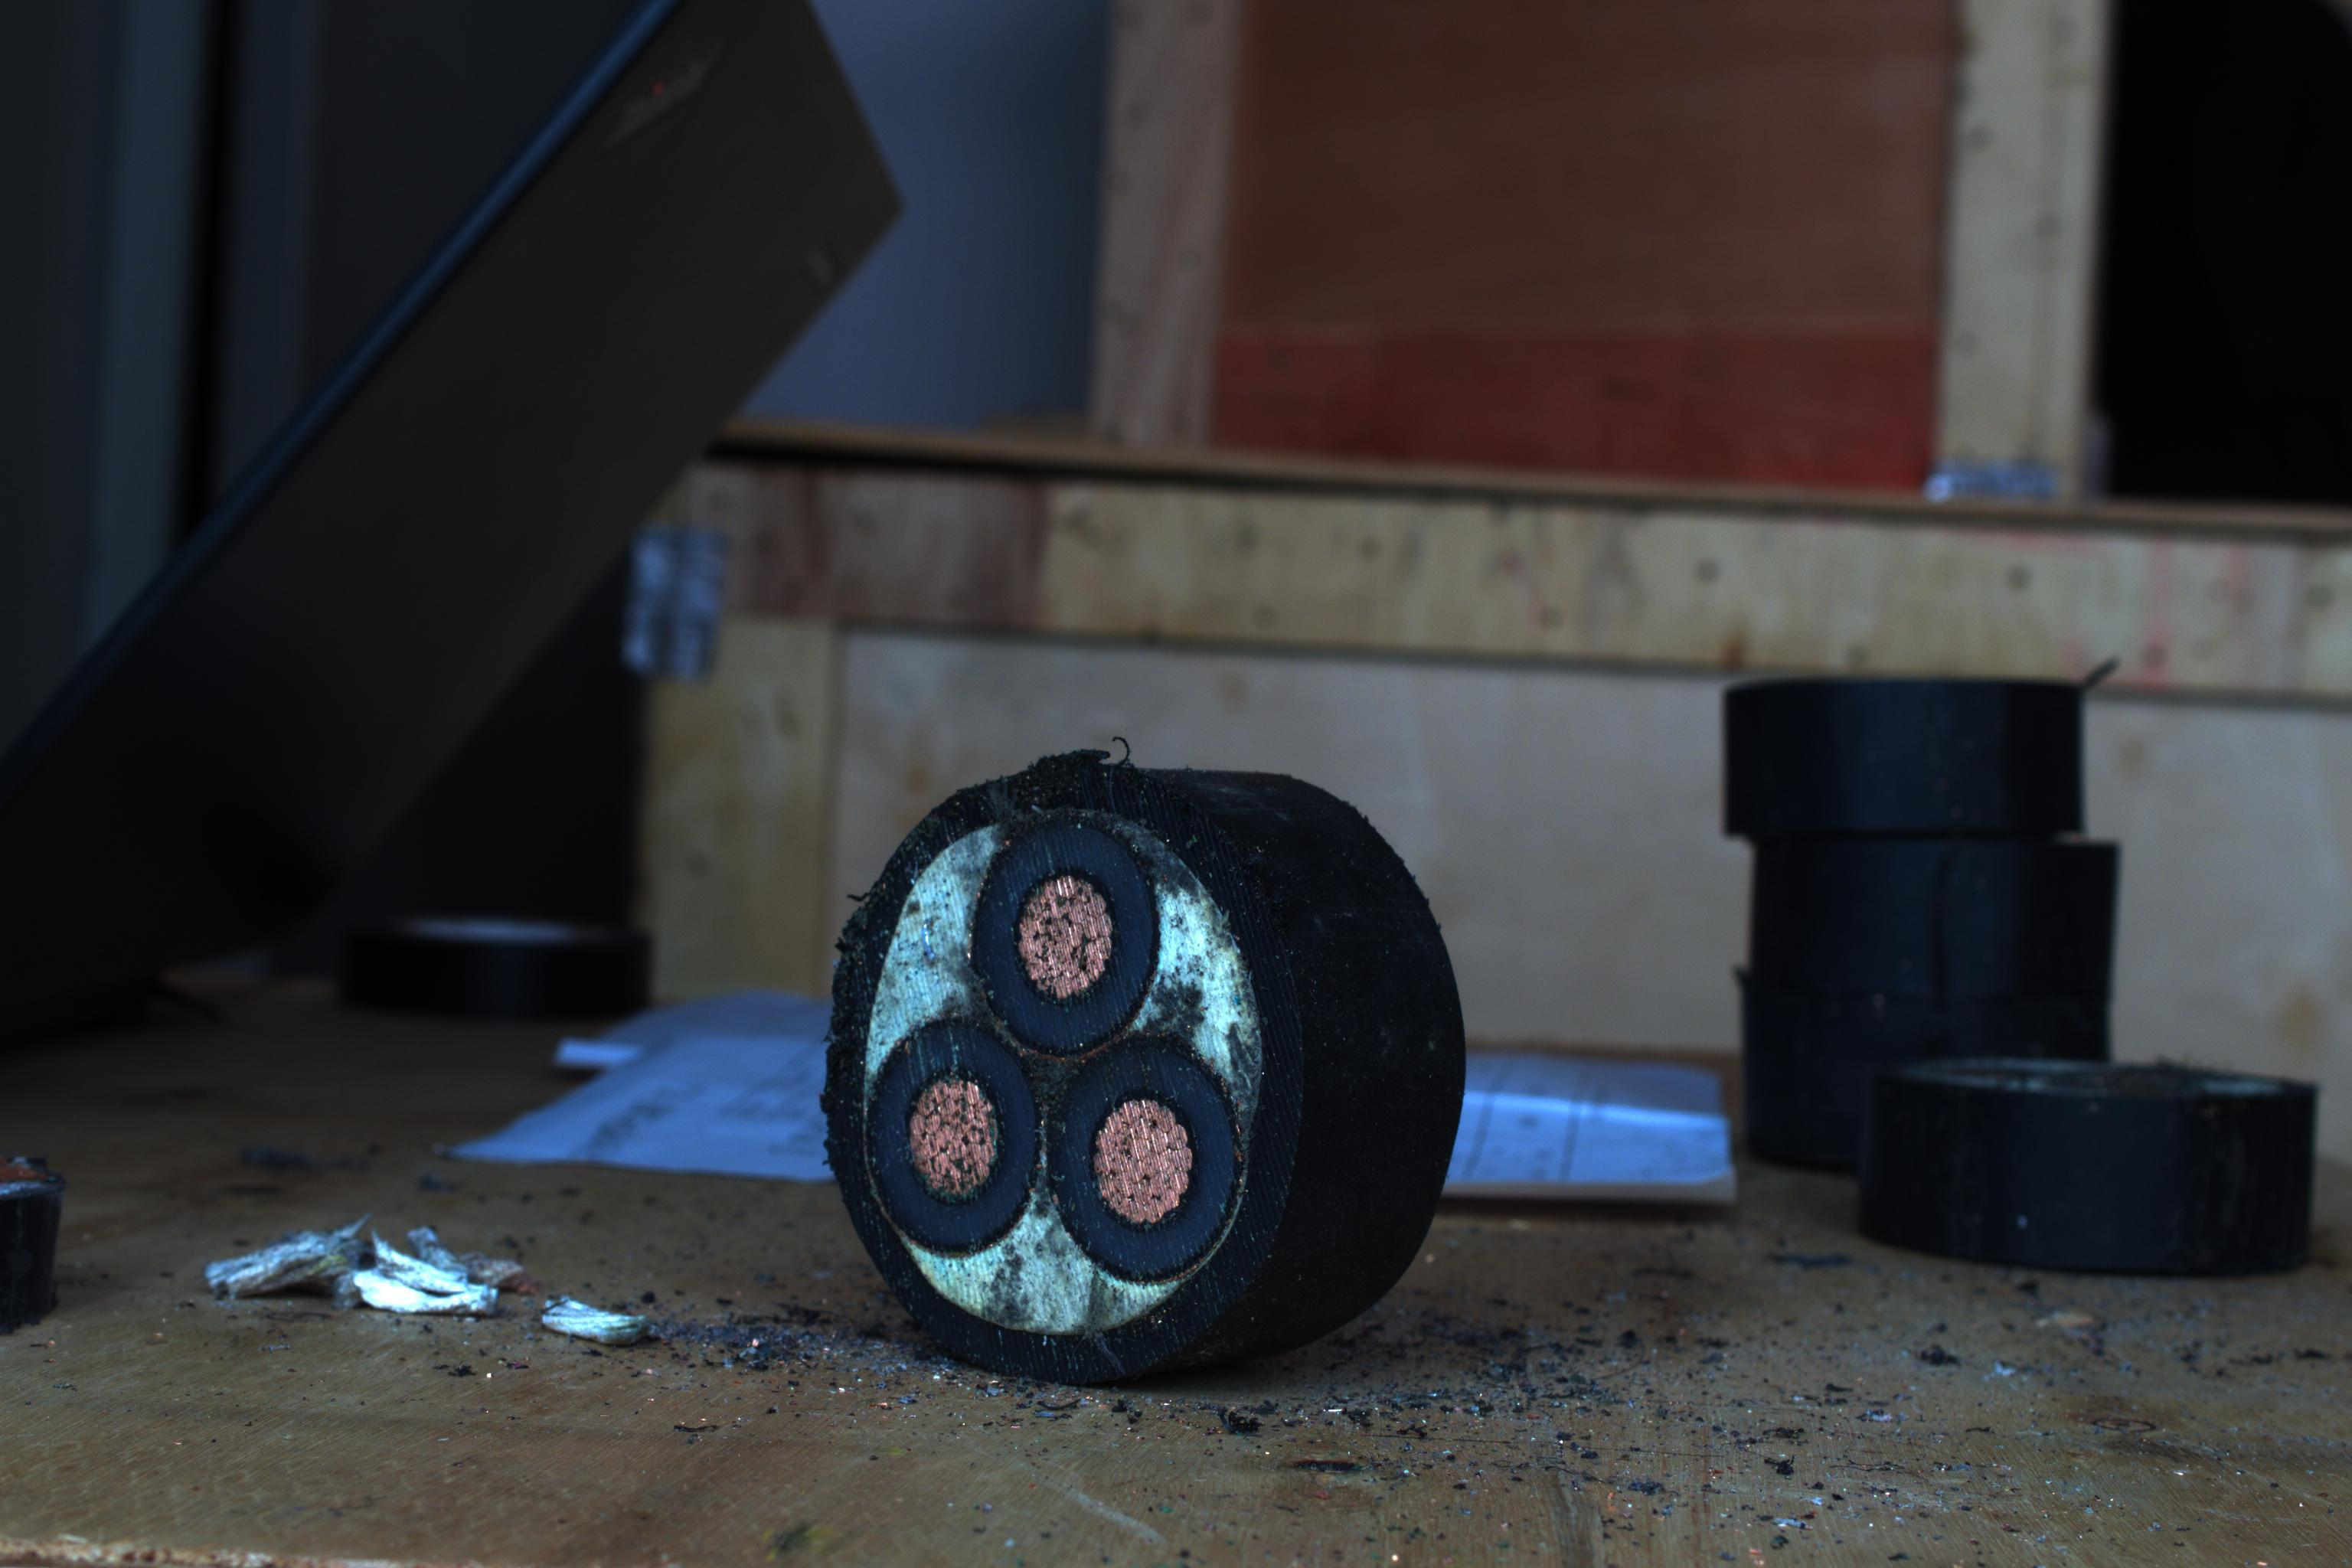ZA_YJV_8.7_10kV_3x120: (817, 777, 1256, 1330)
